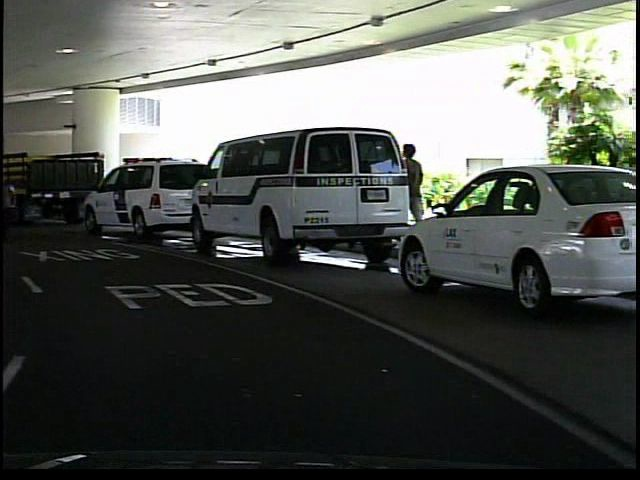person: (391, 139, 426, 253)
